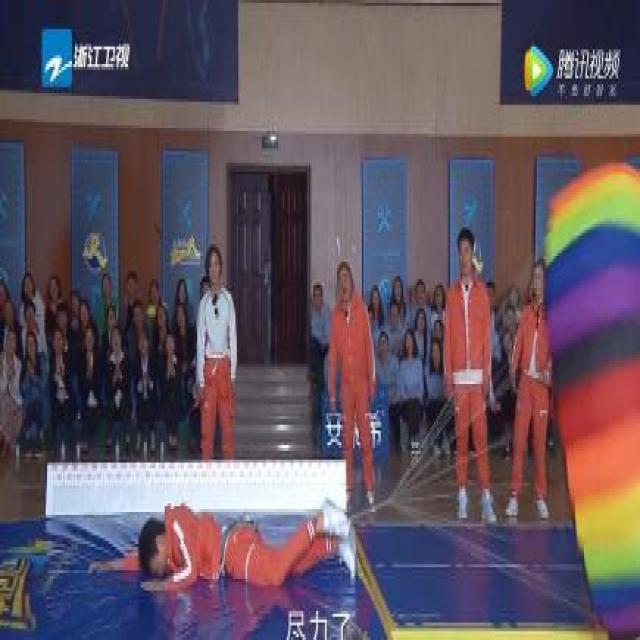10-: (0, 221, 552, 599)
down: (85, 494, 358, 596)
